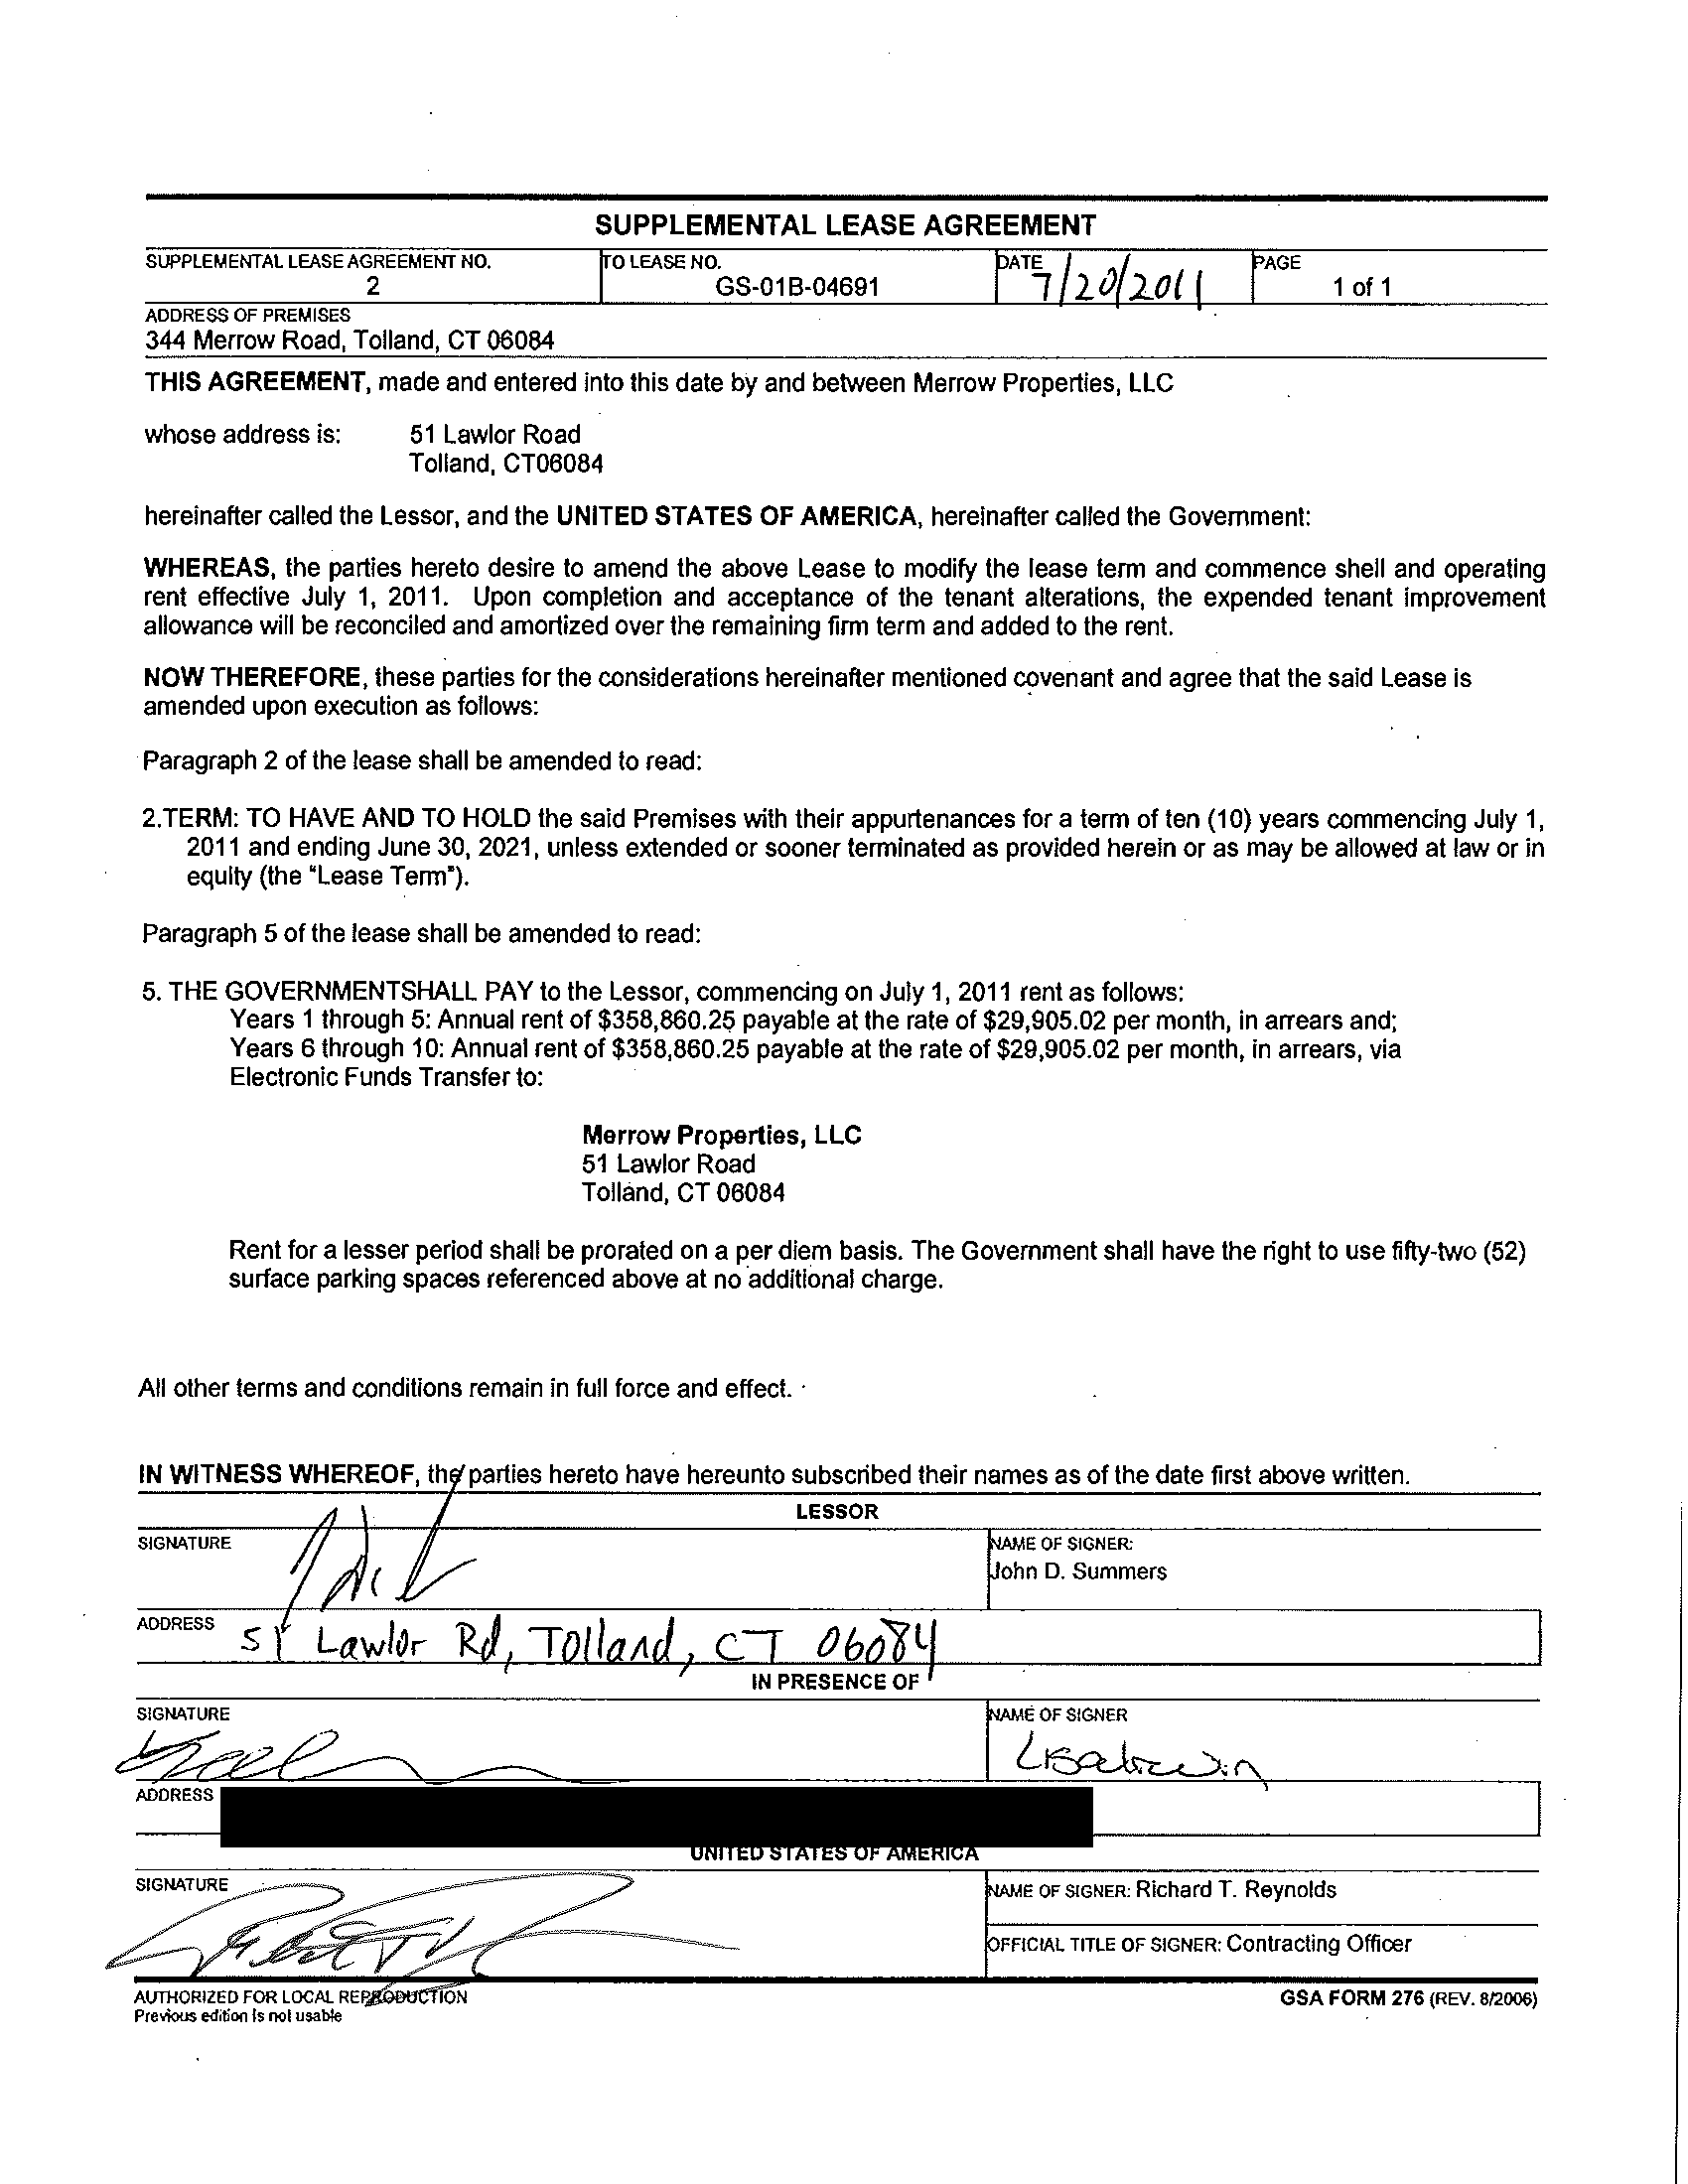handwritten: (99, 1860, 768, 1987), (227, 1608, 954, 1675), (273, 1493, 514, 1613), (993, 1721, 1286, 1789), (1020, 252, 1218, 305)
